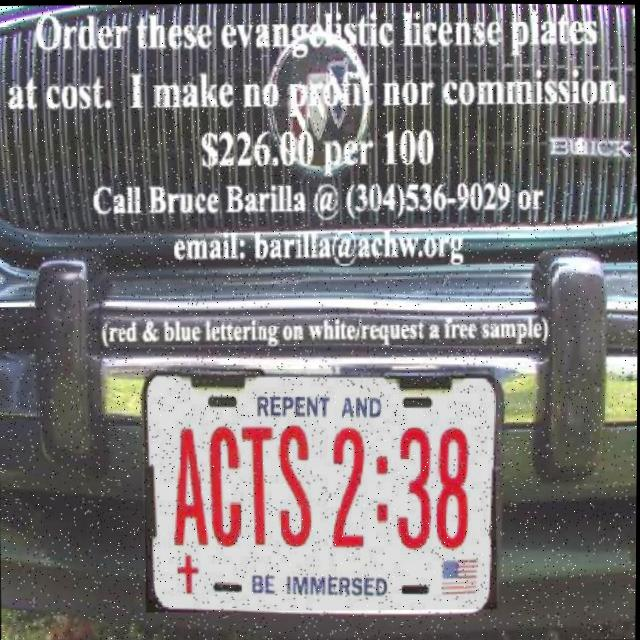LicensePlate: (142, 364, 499, 614)
